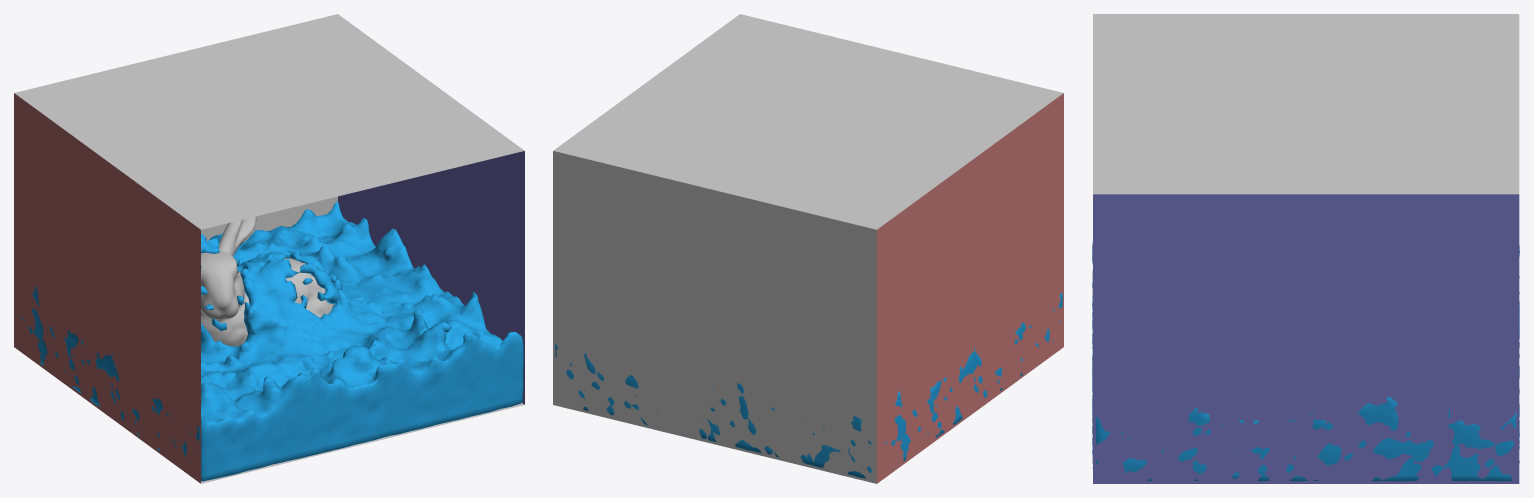
The model's file is showerBunny.dae.
3 views of the same model, side by side, from view 1: azimuth 30°, elevation 25°; view 2: azimuth 150°, elevation 25°; view 3: azimuth 270°, elevation 25° (orthographic). The views are drawn at different scales.
Parts seen in each view (by area): view 1: ceiling, fluid, leftWall, rightWall, Mesh, backWall, floor; view 2: backWall, ceiling, leftWall, fluid; view 3: rightWall, ceiling, fluid.
Boxes of the visible parts, x1,y1,x2,y2 form: ceiling: (14, 14, 524, 229); fluid: (21, 201, 523, 481); leftWall: (14, 93, 200, 483); rightWall: (338, 151, 524, 404); Mesh: (201, 216, 335, 346); backWall: (201, 196, 337, 242); floor: (201, 403, 524, 483); backWall: (553, 151, 876, 483); ceiling: (553, 14, 1063, 229); leftWall: (877, 93, 1063, 483); fluid: (555, 292, 1062, 478); rightWall: (1093, 194, 1519, 483); ceiling: (1093, 14, 1519, 194); fluid: (1092, 242, 1519, 481).
Bounding box in the file's own units: 2.01 × 2.01 × 1.5.
